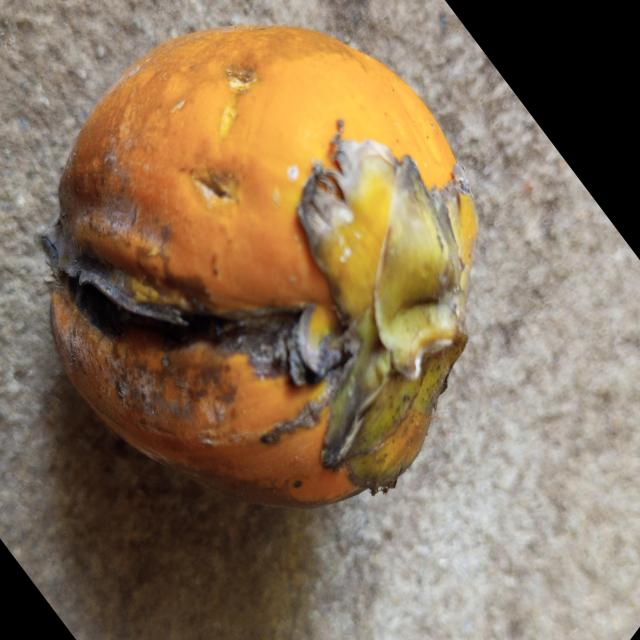damaged: (44, 26, 479, 510)
